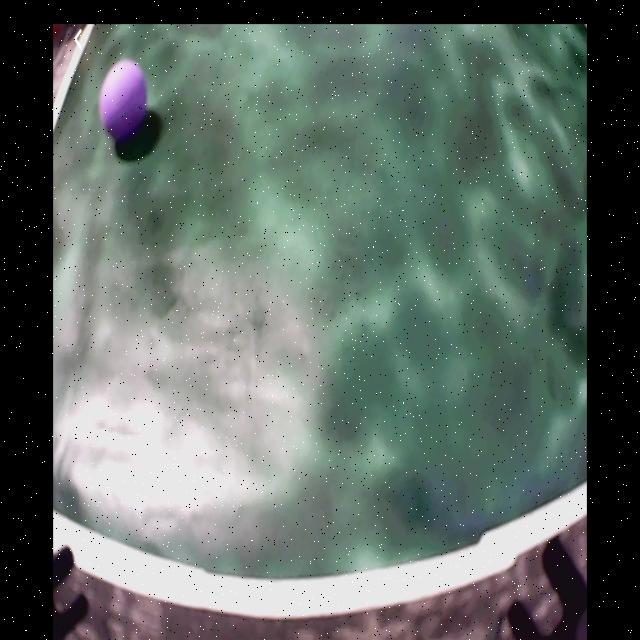ball: (102, 59, 148, 142)
